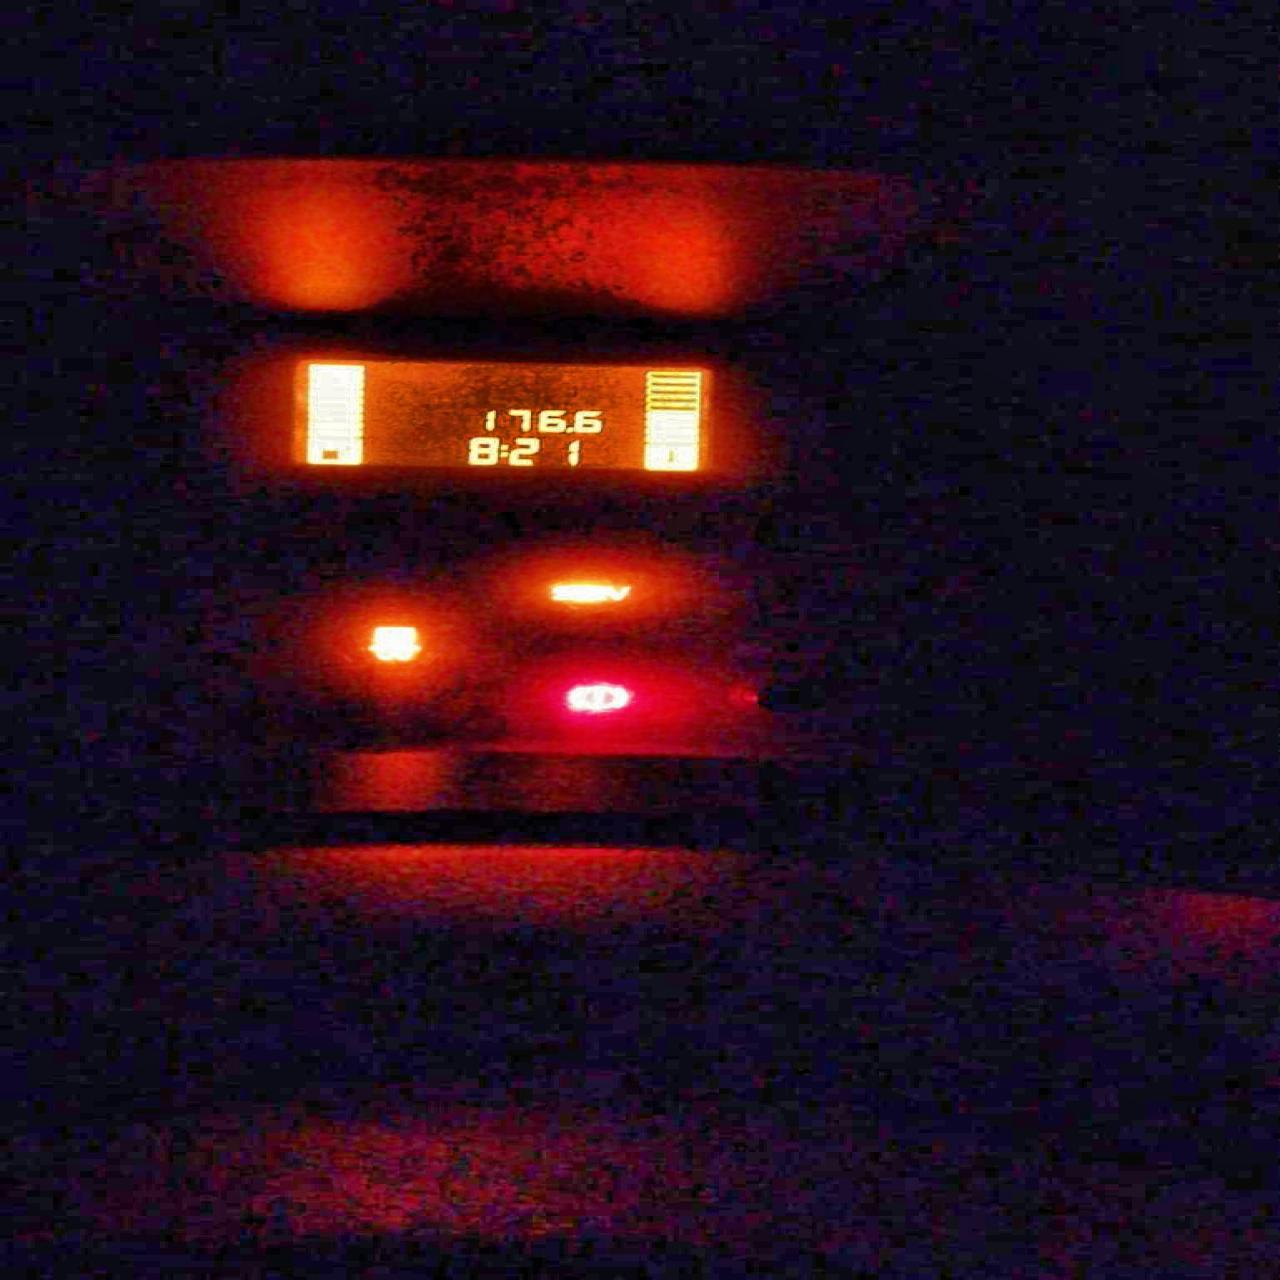-: (564, 427, 573, 431)
1: (565, 440, 579, 467), (481, 409, 496, 431)
2: (505, 436, 539, 465)
6: (536, 409, 566, 433), (572, 409, 601, 433)
7: (505, 409, 530, 431)
8: (465, 436, 499, 465)
X: (497, 444, 508, 457)
odometer: (288, 356, 714, 474)
